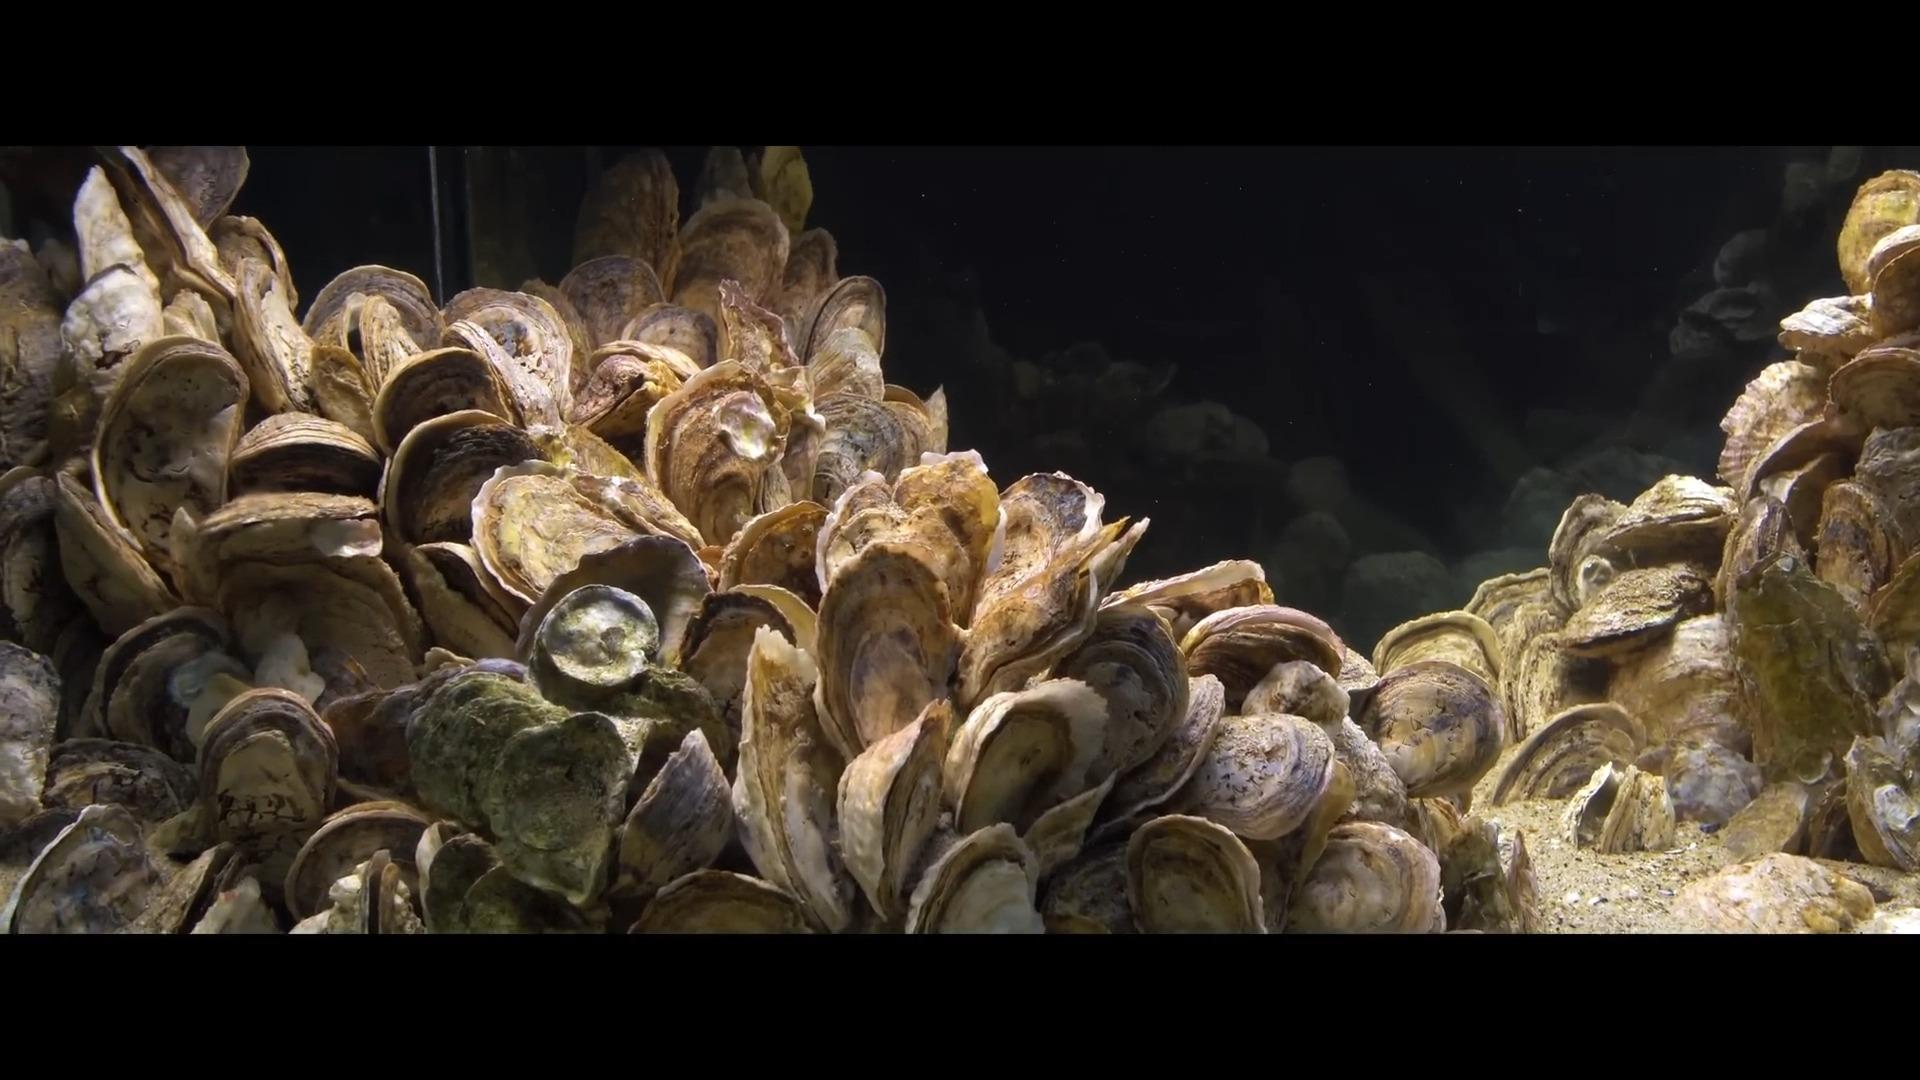Oyster: (816, 454, 1001, 758), (467, 462, 709, 620), (91, 336, 247, 578), (733, 626, 847, 931), (214, 553, 425, 703), (190, 683, 339, 873), (1043, 612, 1183, 808), (837, 699, 952, 918), (951, 543, 1089, 716), (1349, 659, 1509, 808), (83, 607, 235, 758), (948, 686, 1091, 845), (609, 728, 738, 903), (4, 804, 181, 932), (676, 583, 802, 760), (1162, 713, 1335, 840), (51, 467, 177, 640), (181, 487, 390, 587), (436, 287, 582, 431), (281, 799, 443, 926), (393, 411, 541, 546), (980, 460, 1106, 608), (1284, 822, 1447, 932), (665, 195, 789, 338), (1174, 600, 1340, 705), (225, 252, 326, 421), (1714, 357, 1830, 502), (1127, 814, 1267, 934), (1487, 702, 1648, 806), (902, 820, 1047, 935), (886, 446, 1004, 587), (394, 542, 524, 669), (58, 258, 167, 406), (219, 409, 382, 506), (0, 241, 69, 471), (40, 736, 198, 832), (301, 264, 443, 369), (373, 345, 514, 448), (571, 336, 702, 447), (571, 149, 679, 282), (1096, 556, 1265, 640), (1816, 472, 1911, 615), (442, 856, 601, 938), (719, 498, 837, 608), (625, 866, 816, 934), (0, 467, 70, 647), (554, 253, 669, 363), (70, 161, 156, 307), (1, 638, 65, 833), (807, 393, 914, 508), (320, 680, 425, 794), (1710, 767, 1830, 865), (1563, 758, 1681, 856), (1841, 729, 1920, 873), (1367, 609, 1503, 691), (1722, 488, 1807, 613), (210, 214, 302, 326), (1659, 737, 1763, 835), (1432, 807, 1516, 924), (1039, 840, 1141, 934), (1828, 339, 1920, 431), (1335, 724, 1412, 828), (618, 301, 721, 377), (800, 277, 885, 360), (1778, 293, 1871, 363), (749, 145, 812, 239), (1863, 223, 1920, 320), (691, 145, 761, 223)
